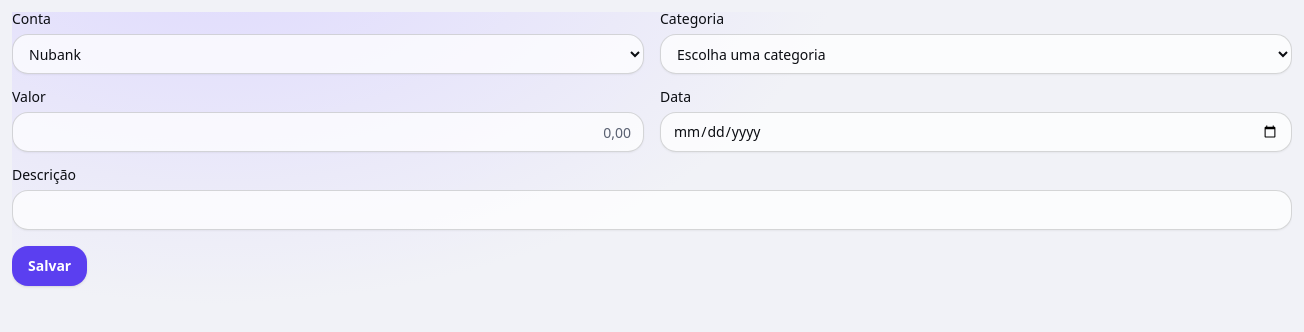
it: TransactionForm › refuses a zero amount and does not submit
Select "Nubank" in the dropdown labelled "Conta" at (328, 54), box [12,34,644,74]
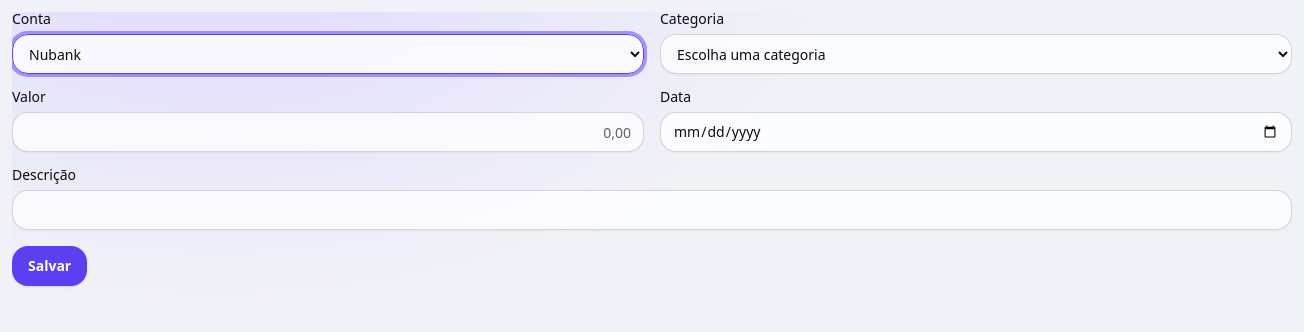
Select "Alimentação" in the dropdown labelled "Categoria" at (976, 54), box [660,34,1292,74]
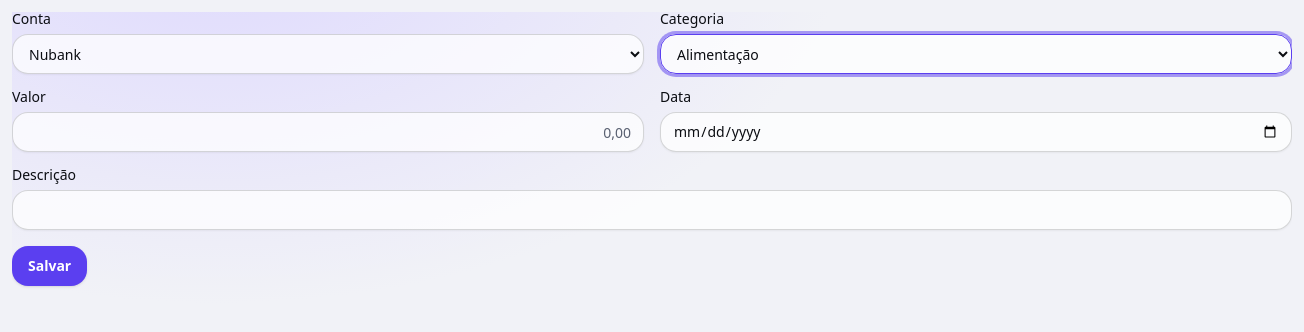
Type "0" into the field labelled "Valor" at (328, 132), box [12,112,644,152]
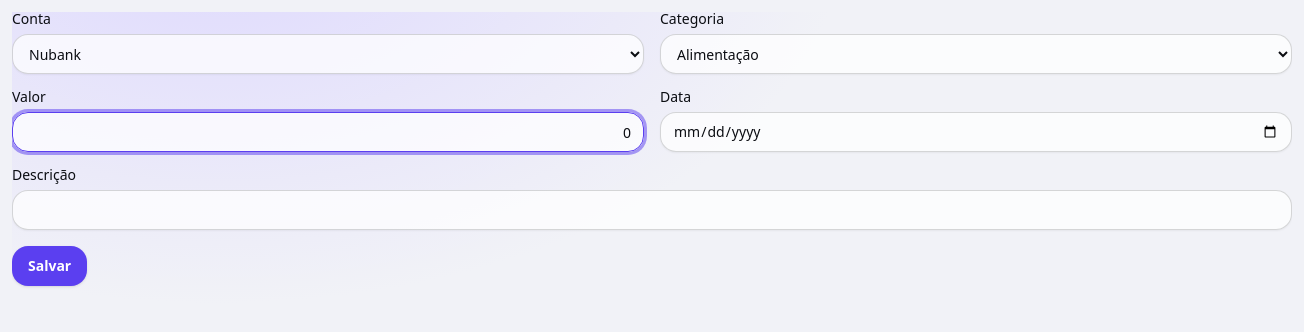
Type "2026-09-13" into the date field labelled "Data" at (976, 132), box [660,112,1292,152]
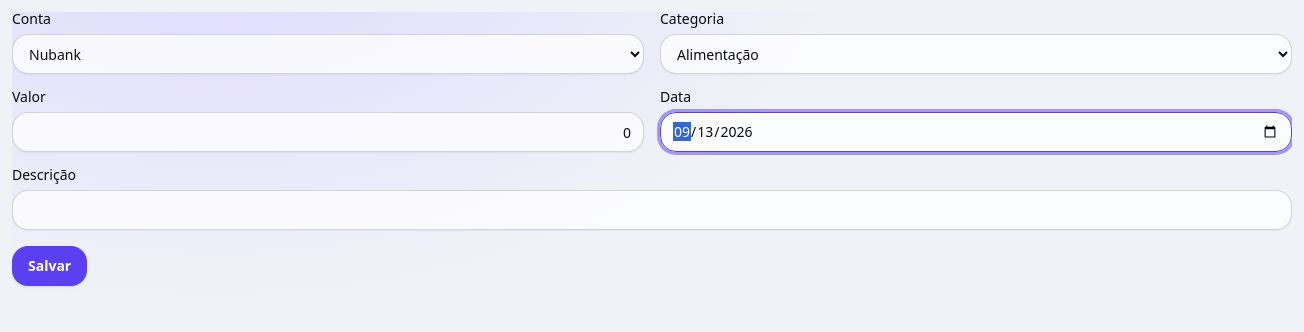
Type "Supermercado" into the field labelled "Descrição" at (652, 210), box [12,190,1292,230]
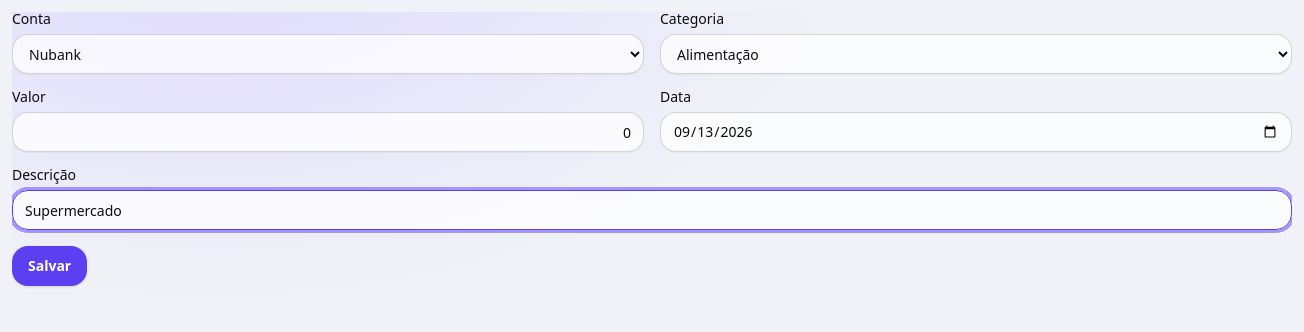
Click the button "Salvar" at (50, 266), box [12,246,87,286]
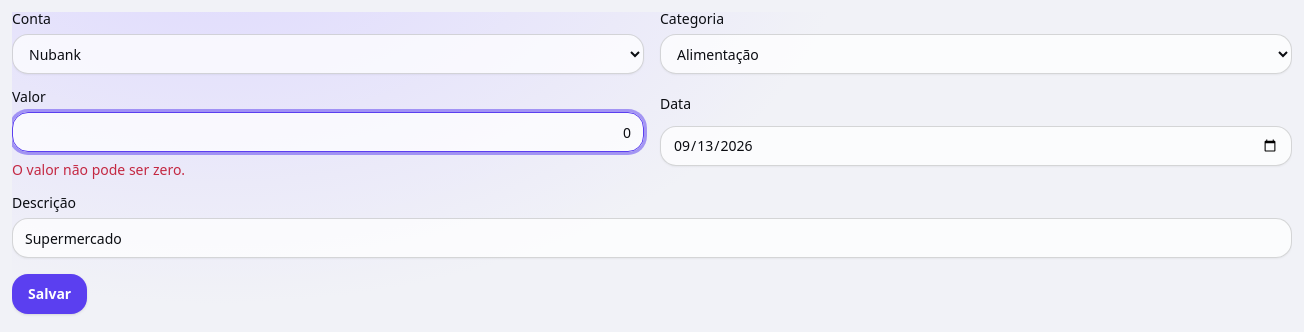
Expected: the text "O valor não pode ser zero." is shown, [12,160,185,179]
